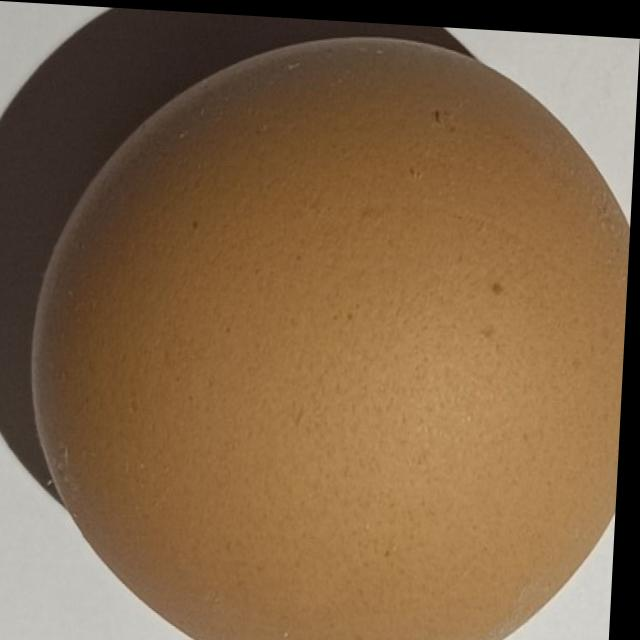fresh: (25, 19, 639, 640)
